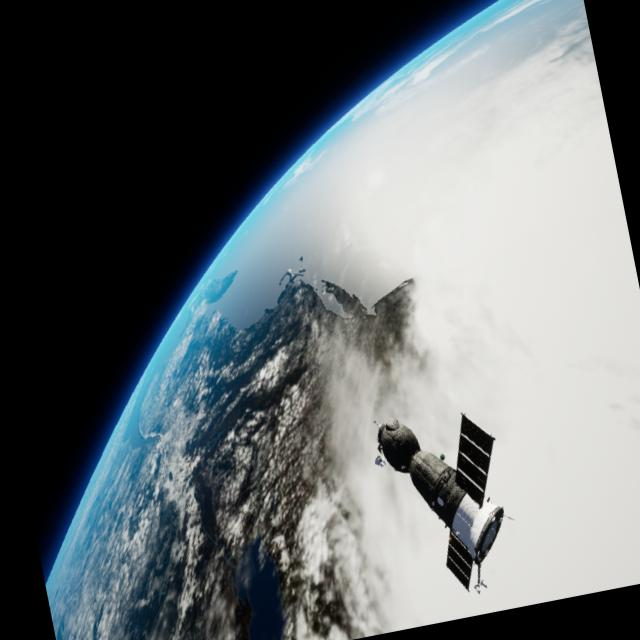Satellites revolving around earth: (0, 0, 640, 640), (368, 395, 526, 608)
